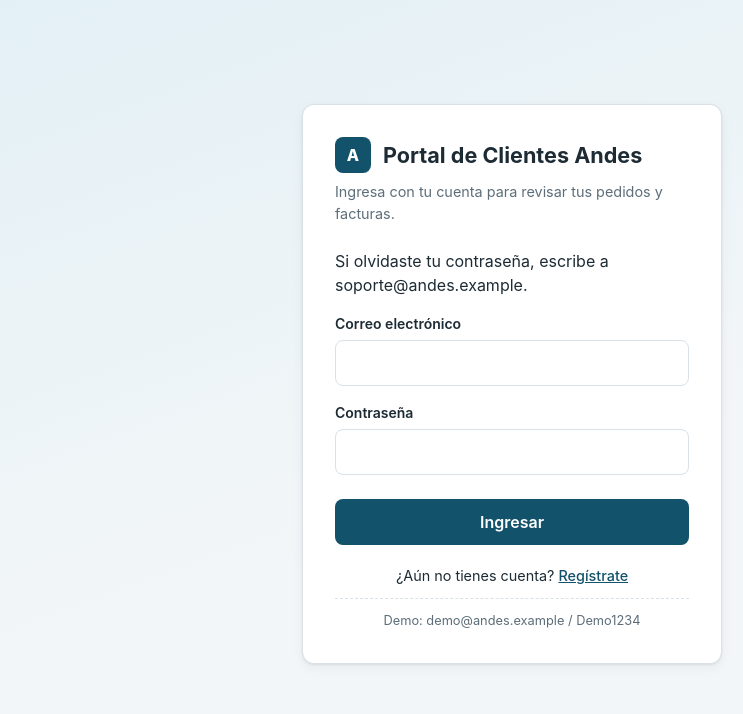
Test case: LoginPage › muestra un error con credenciales incorrectas
Type "demo@andes.example" into the field labelled "Correo electrónico" at (512, 363), box x1=335 y1=340 x2=689 y2=386
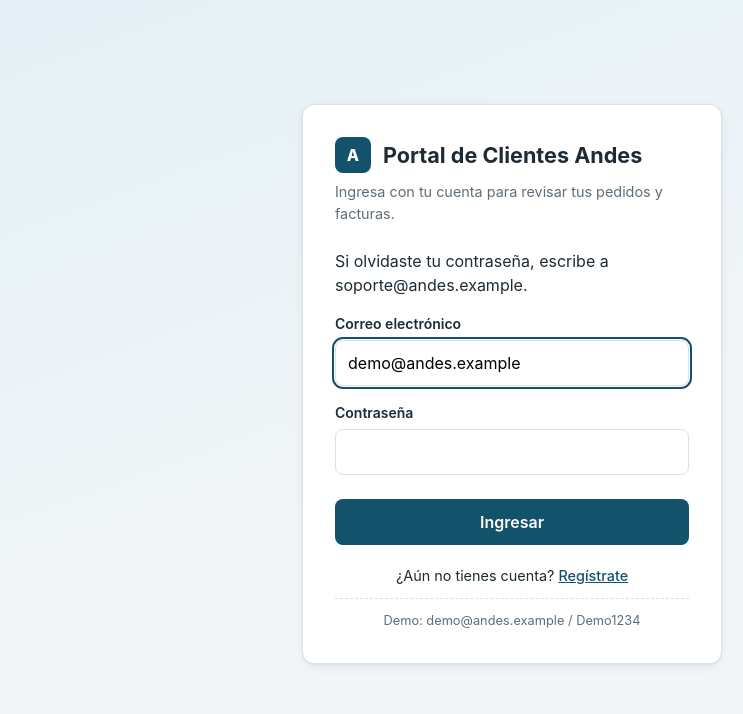
Type "Incorrecta1" into the password field labelled "Contraseña" at (512, 452), box x1=335 y1=429 x2=689 y2=475
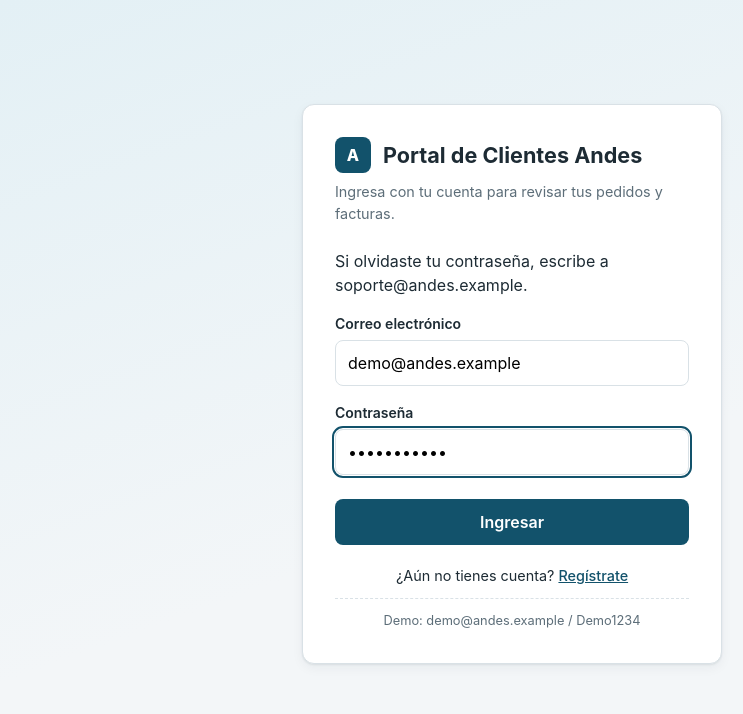
Click the button "Ingresar" at (512, 522), box x1=335 y1=499 x2=689 y2=545
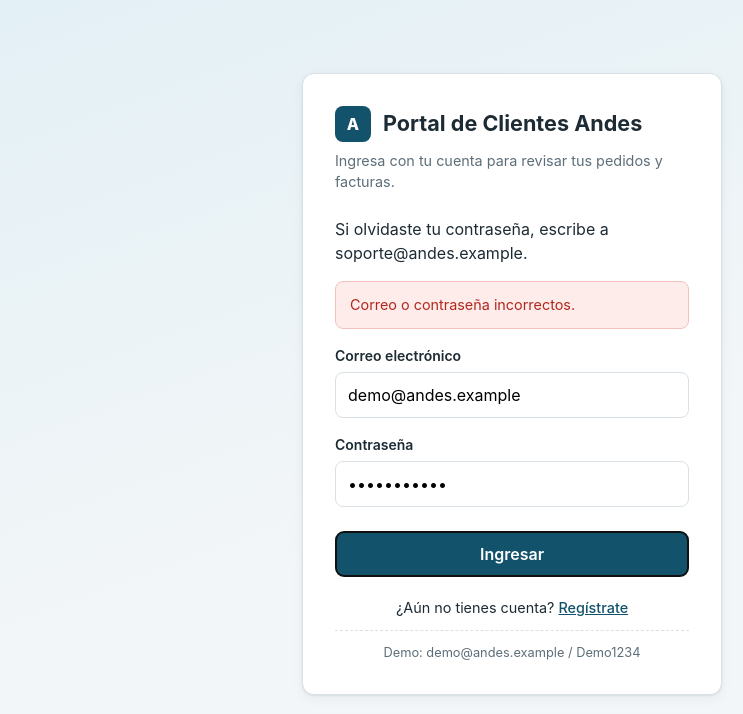
Check: the message reads "Correo o contraseña incorrectos.", box x1=350 y1=296 x2=575 y2=313
